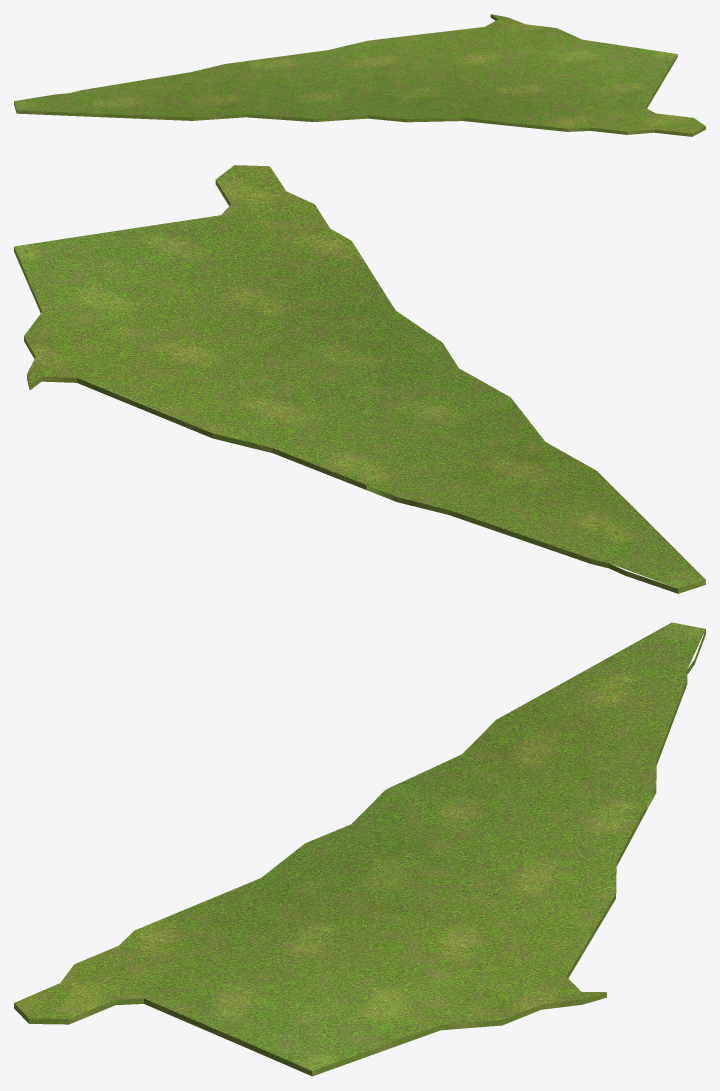
The model's file is lawn_04.gltf.
3 renders of one model, top to bottom at view 1: azimuth 30°, elevation 25°; view 2: azimuth 150°, elevation 25°; view 3: azimuth 270°, elevation 25°, orthographic. The views are drawn at different scales.
Visible parts, largest first — view 1: lawn_04.surface, lawn_04.sides; view 2: lawn_04.surface, lawn_04.sides; view 3: lawn_04.surface, lawn_04.sides.
Part boxes in pixels (bbox=[...]): lawn_04.surface: bbox=[14, 14, 705, 133]; lawn_04.sides: bbox=[14, 14, 705, 136]; lawn_04.surface: bbox=[14, 165, 705, 588]; lawn_04.sides: bbox=[14, 179, 705, 593]; lawn_04.surface: bbox=[14, 622, 705, 1070]; lawn_04.sides: bbox=[14, 629, 705, 1076].
Size of the model in its own units: 10.59 by 0.1559 by 6.89.
Materials: 1 (1 with a texture image).
